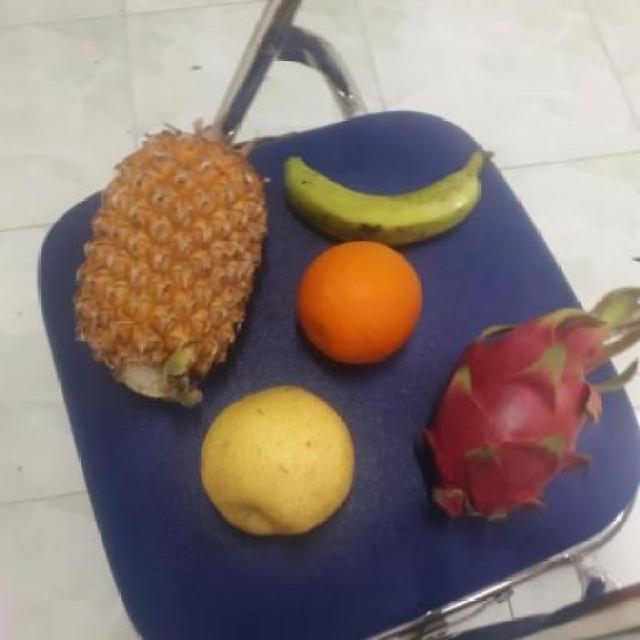banana: (276, 128, 475, 244)
dragon fruit: (422, 313, 608, 524)
oren: (290, 244, 422, 364)
pear: (191, 380, 357, 537)
pineapple: (69, 138, 268, 400)
